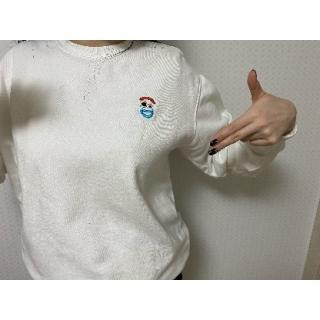GHAYN: (203, 64, 300, 157)
